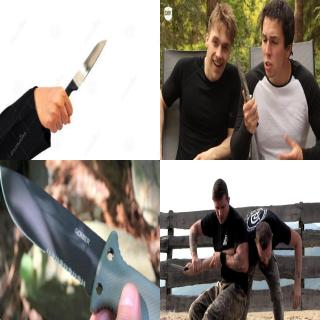knife: (0, 165, 159, 319), (51, 36, 109, 132), (233, 50, 259, 119), (169, 260, 191, 278)
